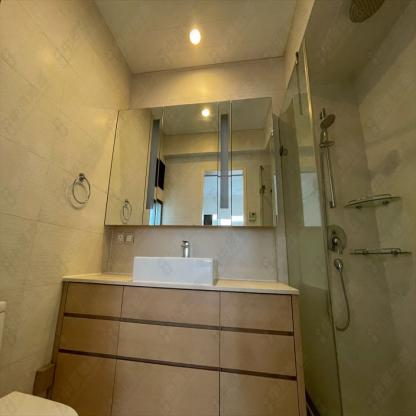Exhaust Fan: (155, 156, 165, 188)
Faucet: (179, 234, 195, 256)
Toilet: (1, 388, 78, 415)
Toilet Sink: (133, 255, 216, 285)
Water Cubicle: (279, 39, 340, 415)
